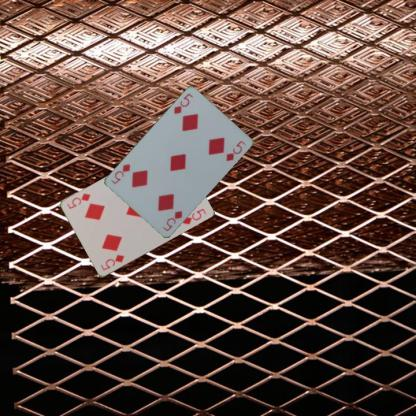5d: (160, 208, 184, 233), (171, 90, 194, 116), (98, 252, 126, 272)
